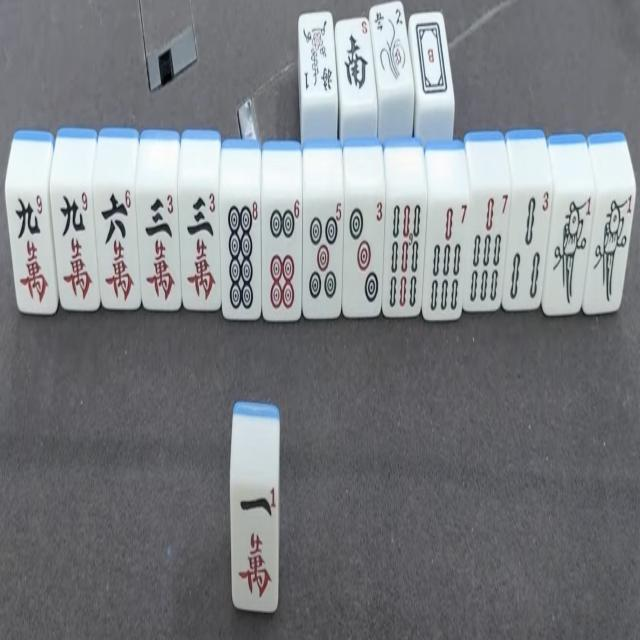bai: (416, 10, 449, 107)
f1: (300, 6, 333, 103)
f2: (375, 0, 412, 100)
m1: (229, 481, 278, 612)
m3: (137, 189, 179, 309), (183, 188, 222, 308)
m6: (95, 185, 139, 309)
m9: (5, 186, 56, 314), (52, 185, 98, 309)
s1: (590, 189, 634, 311), (556, 190, 586, 311)
s3: (504, 186, 552, 306)
s7: (424, 199, 466, 317), (466, 190, 506, 306)
s9: (388, 195, 422, 312)
south: (336, 18, 374, 102)
t3: (344, 195, 382, 312)
t5: (302, 202, 342, 320)
t6: (265, 198, 302, 317)
t8: (224, 195, 260, 317)
